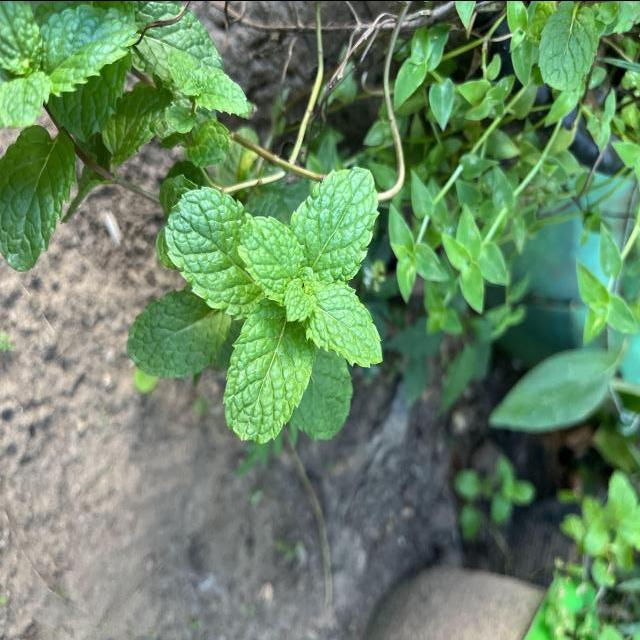Mentha spicata: (220, 298, 317, 444), (162, 183, 248, 321), (289, 164, 382, 283), (304, 278, 383, 368), (236, 212, 306, 304)
